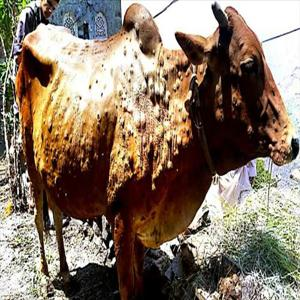lumpy skin diesease: (14, 1, 299, 299)
